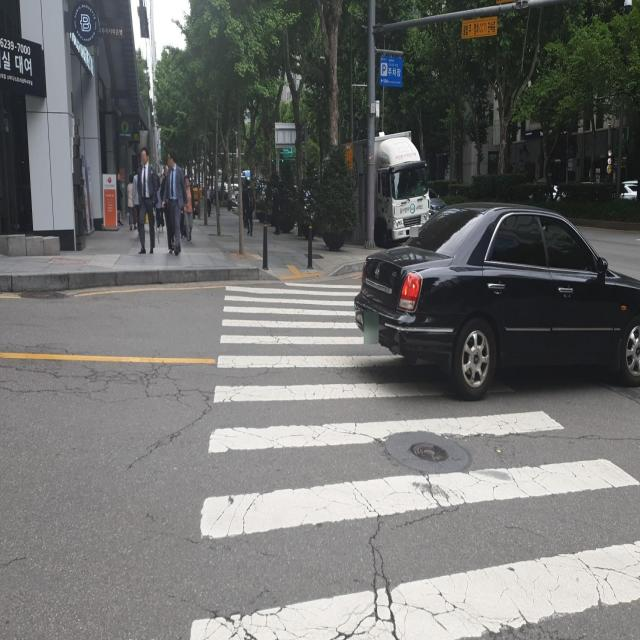횡단보도: (185, 272, 640, 640)
